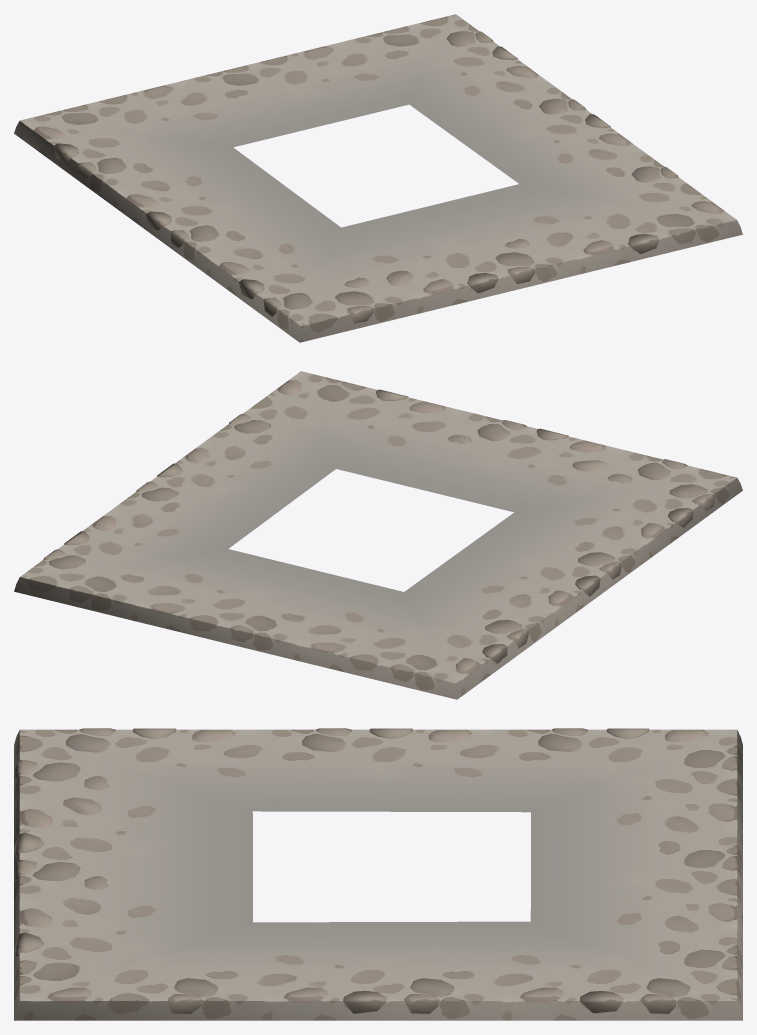
The model's file is SK_onsen_bottom.FBX.
3 views of the same model, one above another, from view 1: azimuth 30°, elevation 25°; view 2: azimuth 150°, elevation 25°; view 3: azimuth 270°, elevation 25° (orthographic). The views are drawn at different scales.
Parts seen in each view (by area): view 1: SK_onsen_bottom; view 2: SK_onsen_bottom; view 3: SK_onsen_bottom.
Boxes of the visible parts, x1,y1,x2,y2 form: SK_onsen_bottom: [14, 14, 742, 342]; SK_onsen_bottom: [14, 371, 742, 699]; SK_onsen_bottom: [14, 728, 742, 1020].
Size of the model in its own units: 645 by 21.6 by 721.
